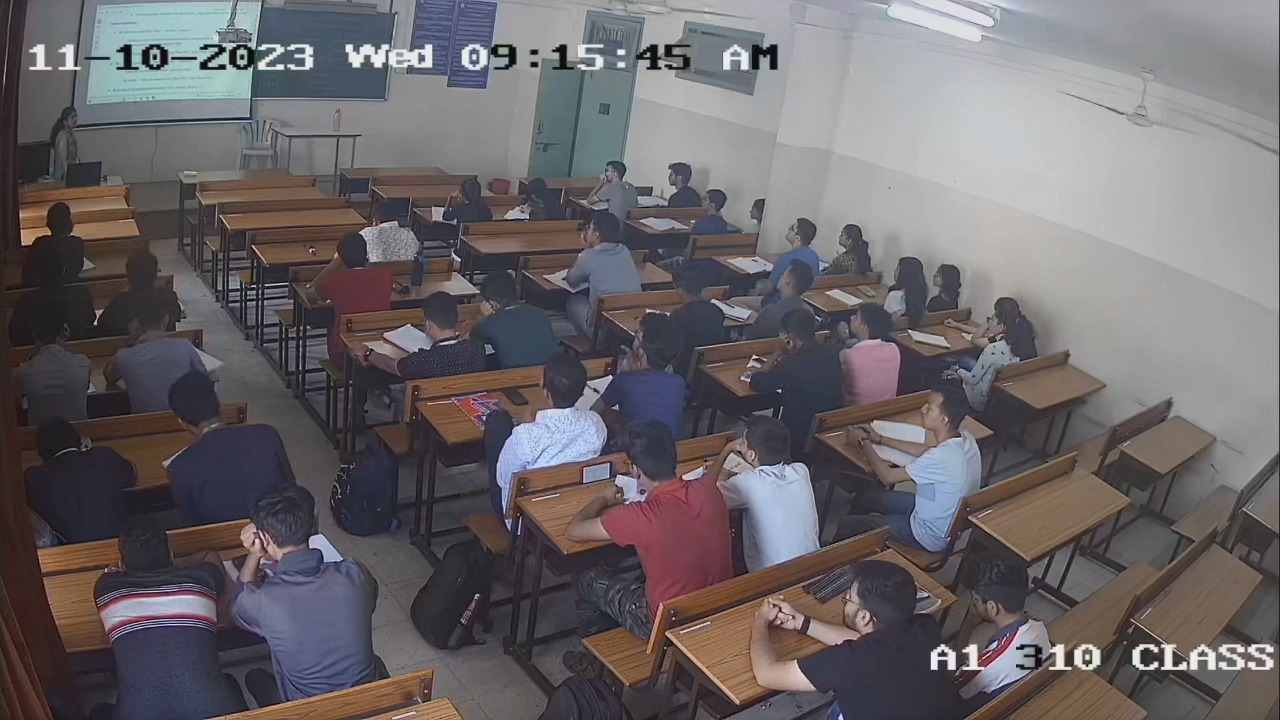cell-phones: (579, 459, 613, 485), (501, 385, 530, 406), (751, 354, 769, 366)
person: (609, 421, 732, 579), (593, 311, 691, 422), (767, 309, 840, 410)
